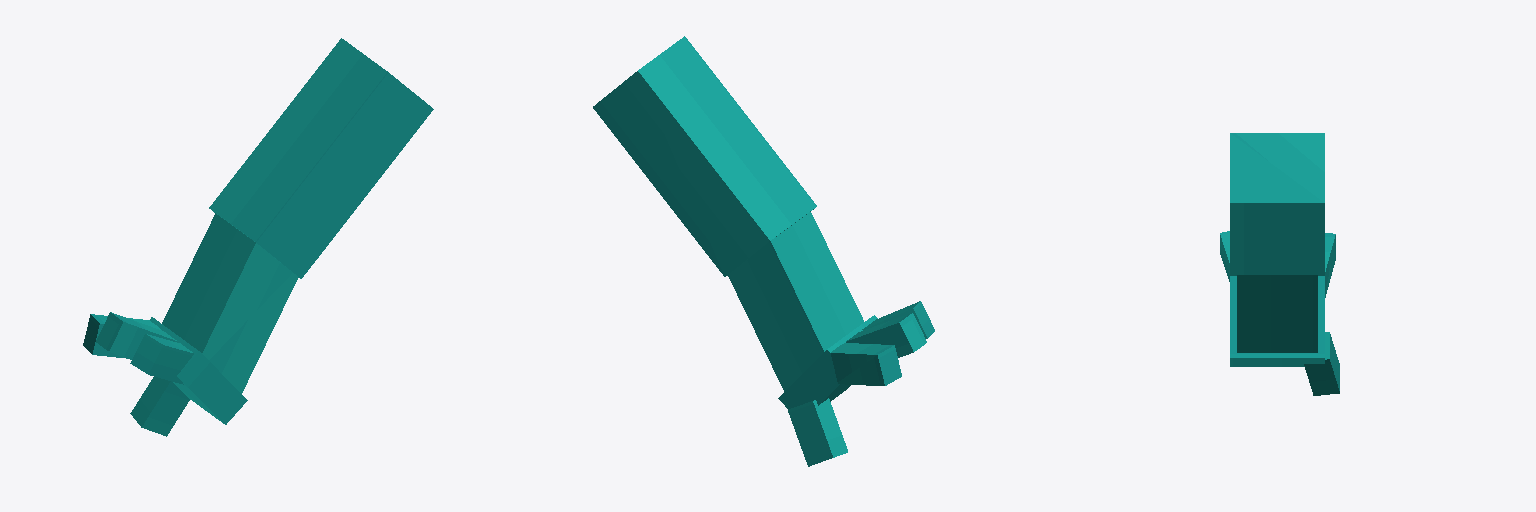
3 renders of one model, left to right at view 1: azimuth 30°, elevation 25°; view 2: azimuth 150°, elevation 25°; view 3: azimuth 270°, elevation 25°, orthographic.
Visible parts, largest first — view 1: 6c57ed06_3e2f_d813_3ec4_a0a4cc2b6637_Mesh_22, e[number redacted]_a147_a859_76d6_d2da053fc43d_Mesh_23, 29867a06_91b8_ed5f_0631_d04d6519cb94_Mesh_24, 326e5144_7cb4_c4e4_37d8_9fca675e62a8_Mesh_28, e20693e5_32a1_10da_1605_28c527a4b19d_Mesh_25, 72b5d277_41d9_0e20_f1df_58f80fe52ca9_Mesh_26, d016e74f_ee42_4661_6eb4_2e2d[number redacted]a_Mesh_27; view 2: 6c57ed06_3e2f_d813_3ec4_a0a4cc2b6637_Mesh_22, e[number redacted]_a147_a859_76d6_d2da053fc43d_Mesh_23, d016e74f_ee42_4661_6eb4_2e2d[number redacted]a_Mesh_27, 326e5144_7cb4_c4e4_37d8_9fca675e62a8_Mesh_28, 29867a06_91b8_ed5f_0631_d04d6519cb94_Mesh_24, 72b5d277_41d9_0e20_f1df_58f80fe52ca9_Mesh_26, e20693e5_32a1_10da_1605_28c527a4b19d_Mesh_25; view 3: 6c57ed06_3e2f_d813_3ec4_a0a4cc2b6637_Mesh_22, e[number redacted]_a147_a859_76d6_d2da053fc43d_Mesh_23, 29867a06_91b8_ed5f_0631_d04d6519cb94_Mesh_24, 326e5144_7cb4_c4e4_37d8_9fca675e62a8_Mesh_28.
Boxes of the visible parts, box(x1,y1,x2,y2) form: 6c57ed06_3e2f_d813_3ec4_a0a4cc2b6637_Mesh_22: box(209, 38, 433, 278); e[number redacted]_a147_a859_76d6_d2da053fc43d_Mesh_23: box(162, 213, 298, 393); 29867a06_91b8_ed5f_0631_d04d6519cb94_Mesh_24: box(150, 317, 247, 424); 326e5144_7cb4_c4e4_37d8_9fca675e62a8_Mesh_28: box(130, 377, 189, 436); e20693e5_32a1_10da_1605_28c527a4b19d_Mesh_25: box(130, 334, 193, 384); 72b5d277_41d9_0e20_f1df_58f80fe52ca9_Mesh_26: box(96, 312, 176, 359); d016e74f_ee42_4661_6eb4_2e2d[number redacted]a_Mesh_27: box(83, 314, 160, 358); 6c57ed06_3e2f_d813_3ec4_a0a4cc2b6637_Mesh_22: box(593, 36, 816, 276); e[number redacted]_a147_a859_76d6_d2da053fc43d_Mesh_23: box(728, 212, 863, 391); d016e74f_ee42_4661_6eb4_2e2d[number redacted]a_Mesh_27: box(831, 343, 901, 385); 326e5144_7cb4_c4e4_37d8_9fca675e62a8_Mesh_28: box(788, 398, 847, 466); 29867a06_91b8_ed5f_0631_d04d6519cb94_Mesh_24: box(778, 315, 877, 409); 72b5d277_41d9_0e20_f1df_58f80fe52ca9_Mesh_26: box(846, 313, 926, 357); e20693e5_32a1_10da_1605_28c527a4b19d_Mesh_25: box(862, 301, 934, 338); 6c57ed06_3e2f_d813_3ec4_a0a4cc2b6637_Mesh_22: box(1230, 133, 1324, 275); e[number redacted]_a147_a859_76d6_d2da053fc43d_Mesh_23: box(1237, 275, 1317, 352); 29867a06_91b8_ed5f_0631_d04d6519cb94_Mesh_24: box(1230, 276, 1324, 366); 326e5144_7cb4_c4e4_37d8_9fca675e62a8_Mesh_28: box(1304, 332, 1339, 395).
Size of the model in its own units: 10.49 by 11.48 by 3.57.
1 materials, 1 textured.